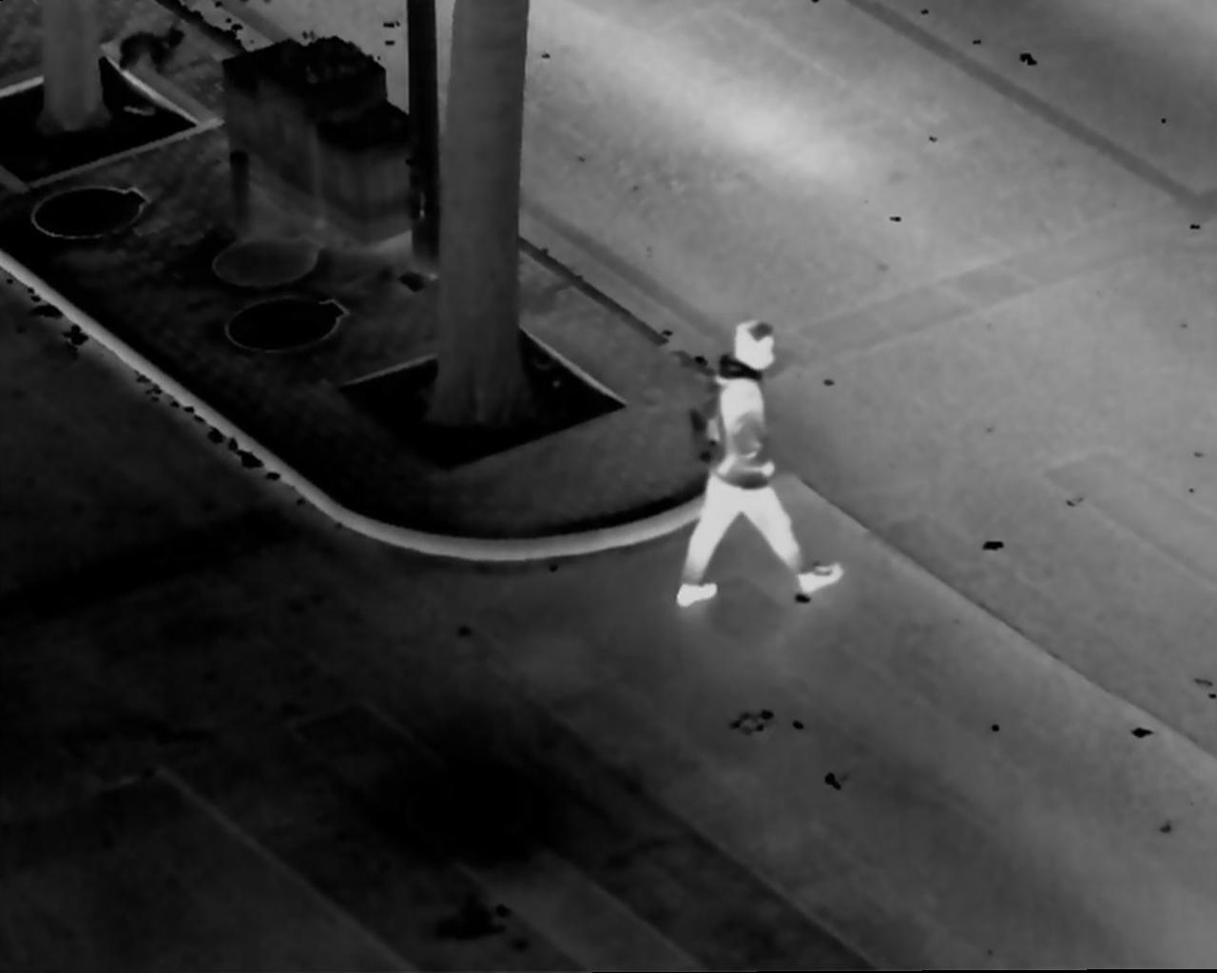person: (675, 319, 852, 606)
